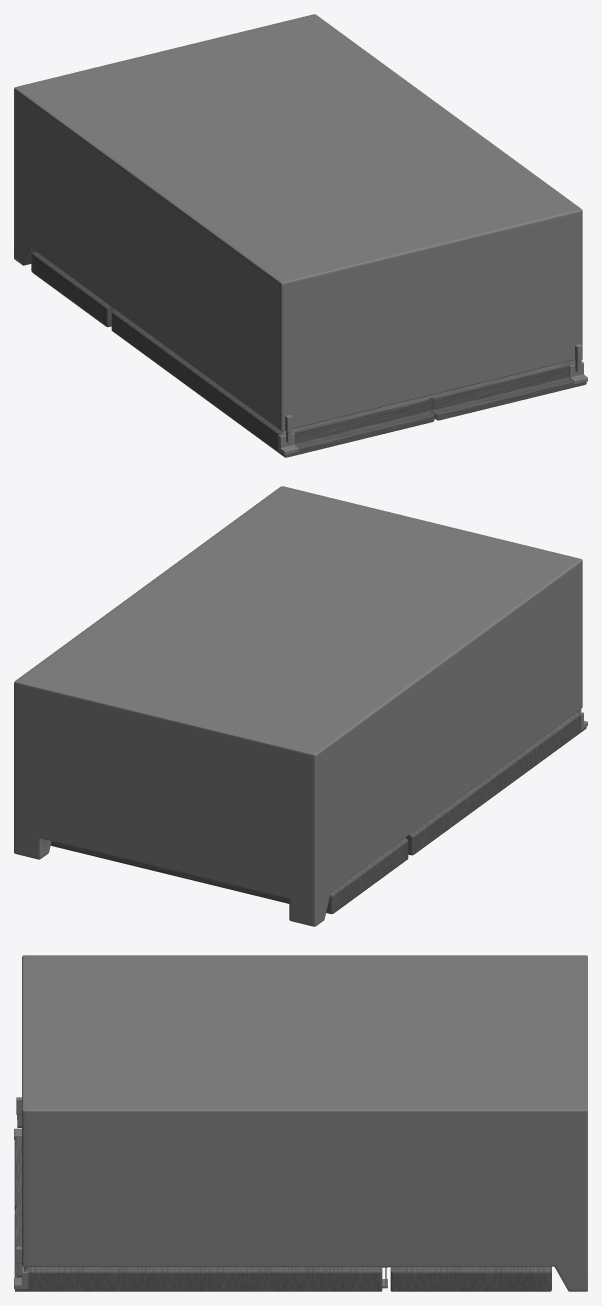
Rendered from 11645_Refrigerator_v1_L3.obj.
3 views of the same model, one above another, from view 1: azimuth 30°, elevation 25°; view 2: azimuth 150°, elevation 25°; view 3: azimuth 270°, elevation 25° (orthographic). The views are drawn at different scales.
Parts seen in each view (by area): view 1: refrigerator_body, refrigerator_doors; view 2: refrigerator_body, refrigerator_doors; view 3: refrigerator_body, refrigerator_doors.
Boxes of the visible parts, box(x1,y1,x2,y2) form: refrigerator_body: box(14, 14, 587, 455); refrigerator_doors: box(31, 251, 586, 457); refrigerator_body: box(14, 486, 587, 926); refrigerator_doors: box(50, 711, 586, 914); refrigerator_body: box(14, 955, 587, 1291); refrigerator_doors: box(14, 1137, 551, 1291).
Size of the model in its own units: 128 by 81.01 by 199.
Materials: 4 (2 with a texture image).
